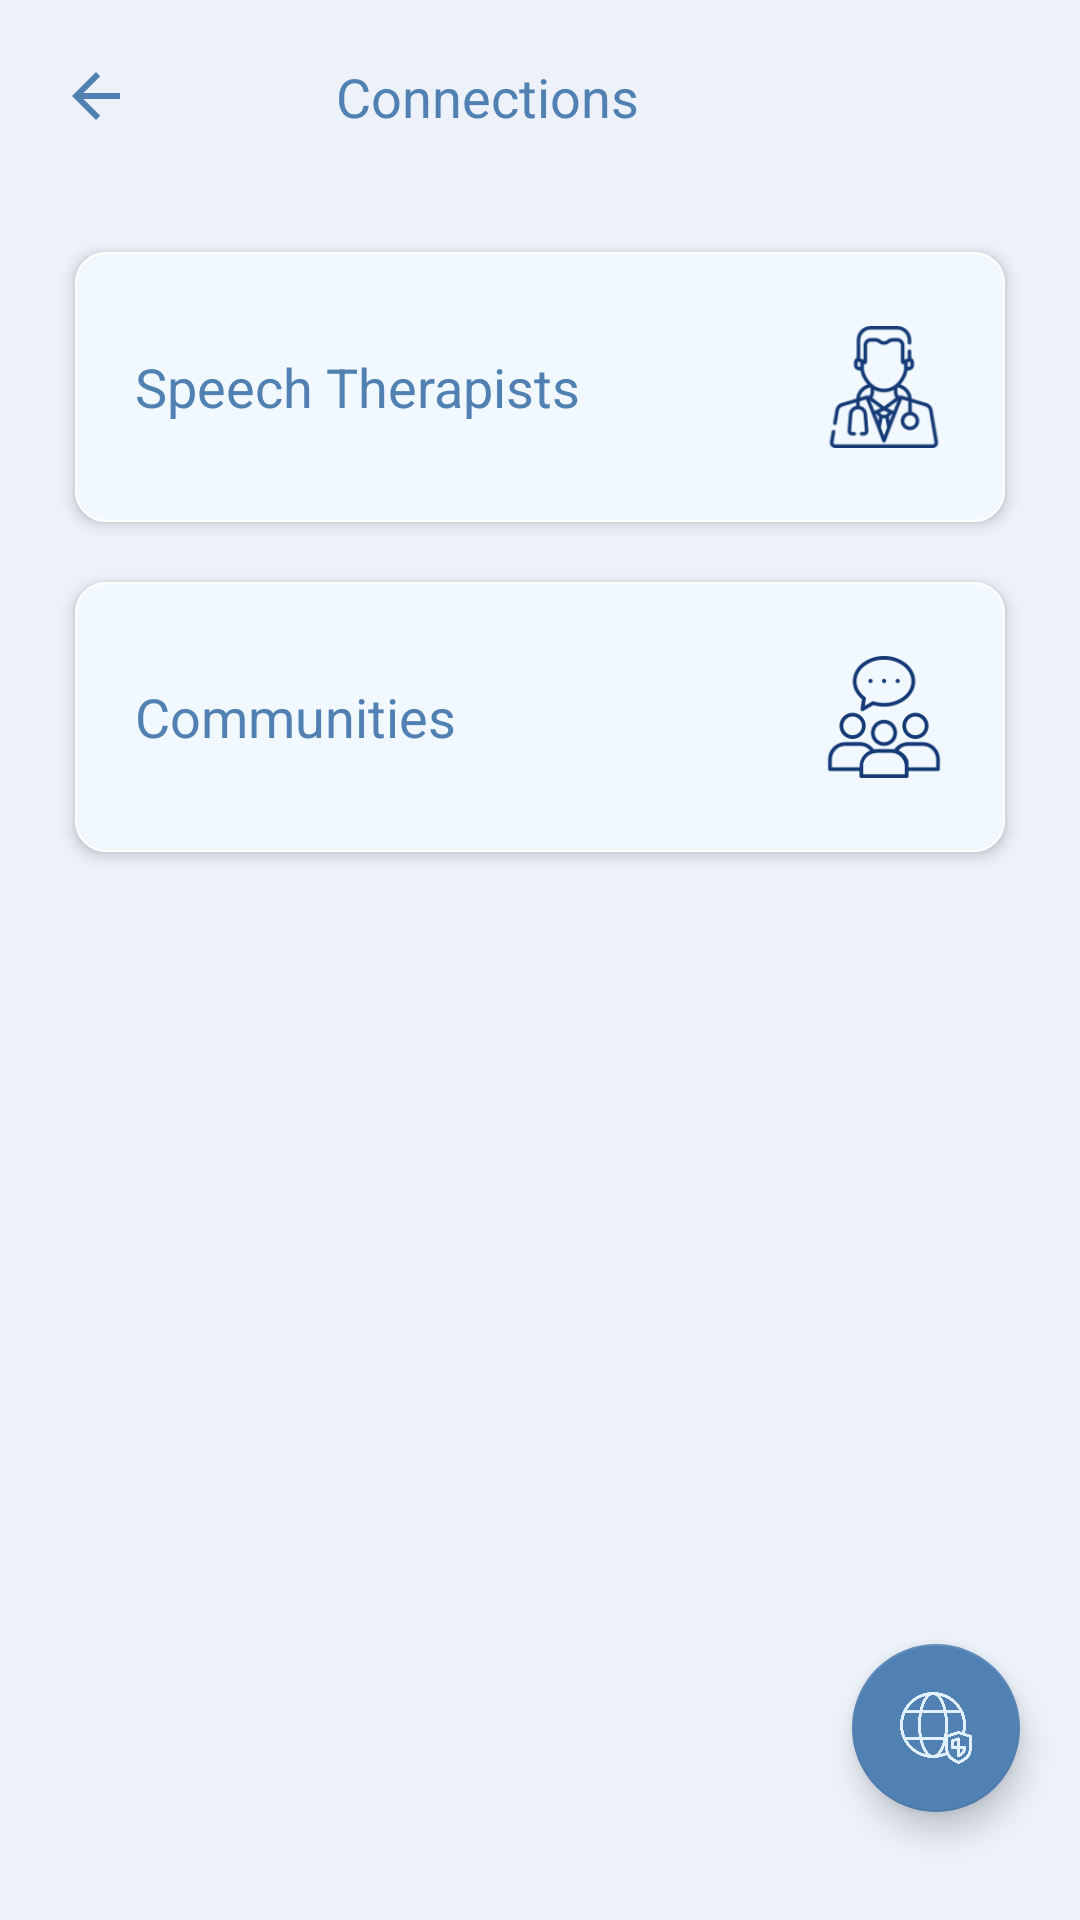

Icons on this 1080w x 1920h Android screen, each with the point to tap as [x,y]:
arrow back: [96,96]
doctor: [884,387]
network: [936,1728]
